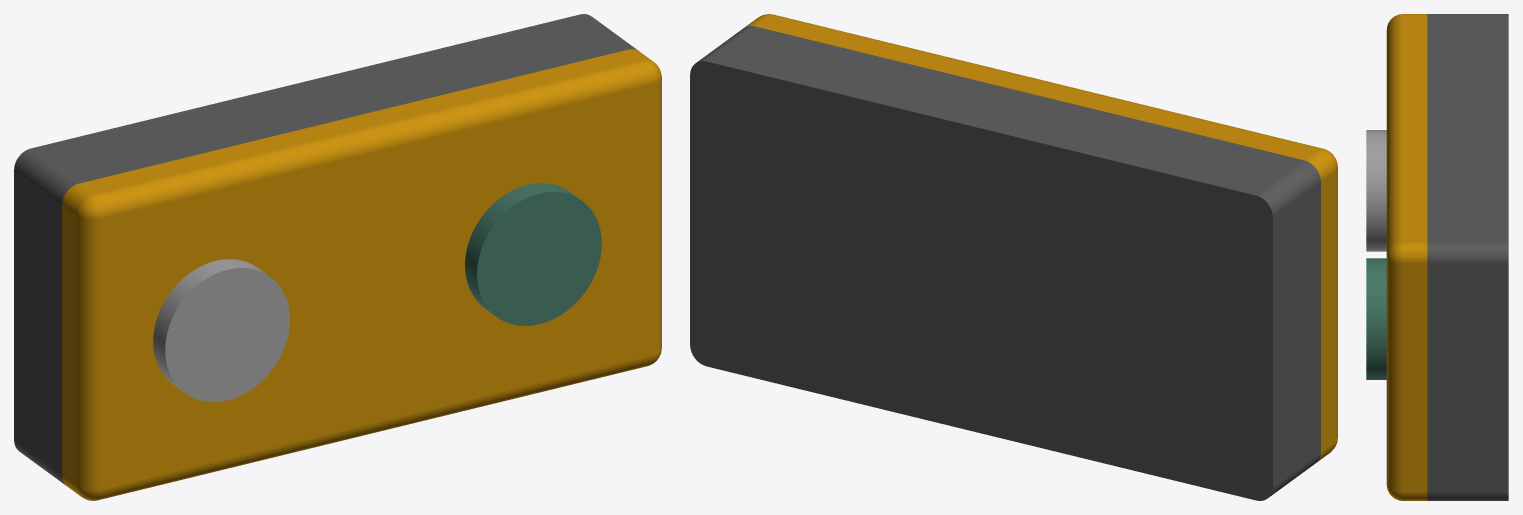
File: Bouton_marche.fbx
3 renders of one model, left to right at view 1: azimuth 30°, elevation 25°; view 2: azimuth 150°, elevation 25°; view 3: azimuth 270°, elevation 25°, orthographic. The views are drawn at different scales.
Parts seen in each view (by area): view 1: Body2, Body1, Body4, Body3; view 2: Body1, Body2; view 3: Body1, Body2, Body3, Body4.
Boxes of the visible parts, x1,y1,x2,y2 form: Body2: [62, 49, 661, 500]; Body1: [14, 14, 638, 485]; Body4: [465, 183, 601, 325]; Body3: [153, 259, 289, 401]; Body1: [690, 26, 1320, 500]; Body2: [745, 14, 1337, 461]; Body1: [1427, 14, 1508, 500]; Body2: [1386, 14, 1427, 500]; Body3: [1366, 130, 1386, 251]; Body4: [1366, 258, 1386, 379].
Bounding box in the file's own units: 140 × 70 × 35.
